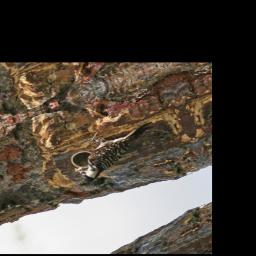Woodpecker: (66, 113, 165, 186)
